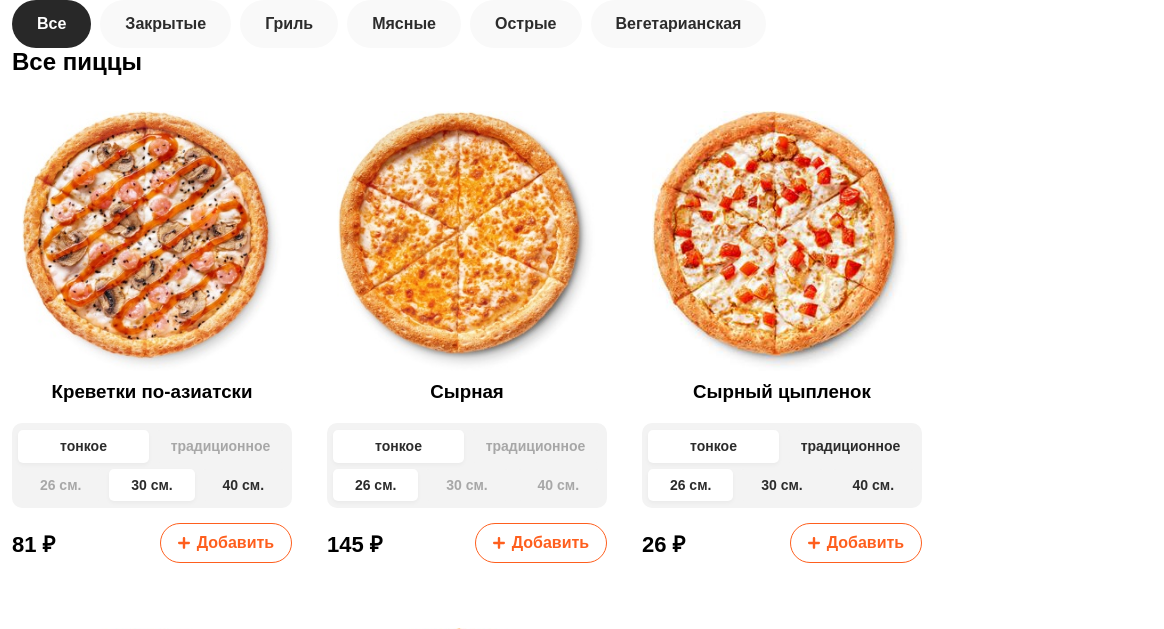
Проверка работы каталога и табов › При нажатии на таб для выбора категории в каталоге должны остаться только пиццы из данной категории
Step 1. Click the switch "Гриль" → x=289, y=24, box [240,0,338,48]
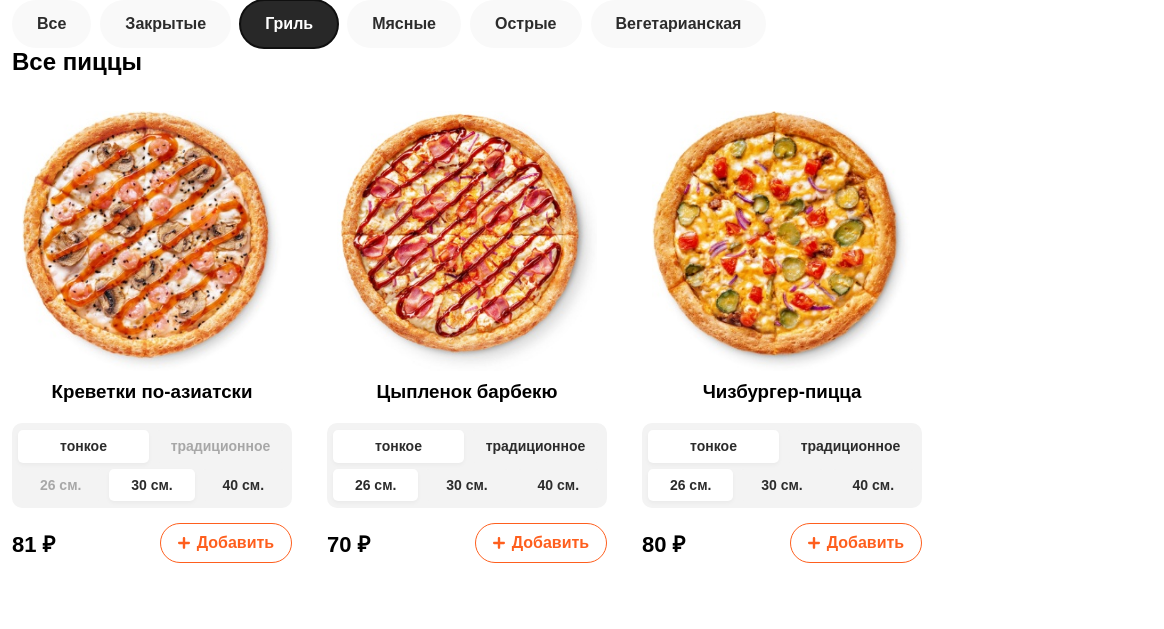
Now the number of cells is 3, box [12,111,292,563]; [327,111,607,563]; [642,111,922,563]
